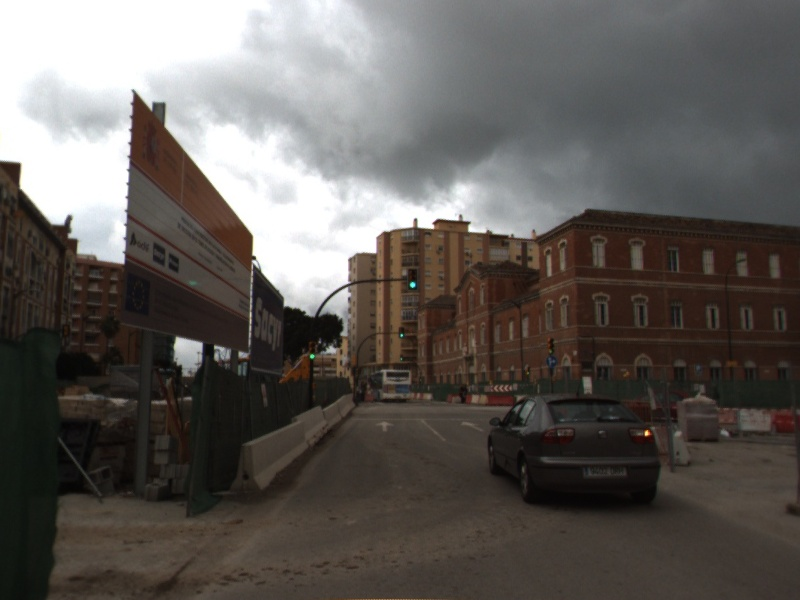STRAIGHT: (458, 420, 488, 434), (373, 420, 397, 433)
